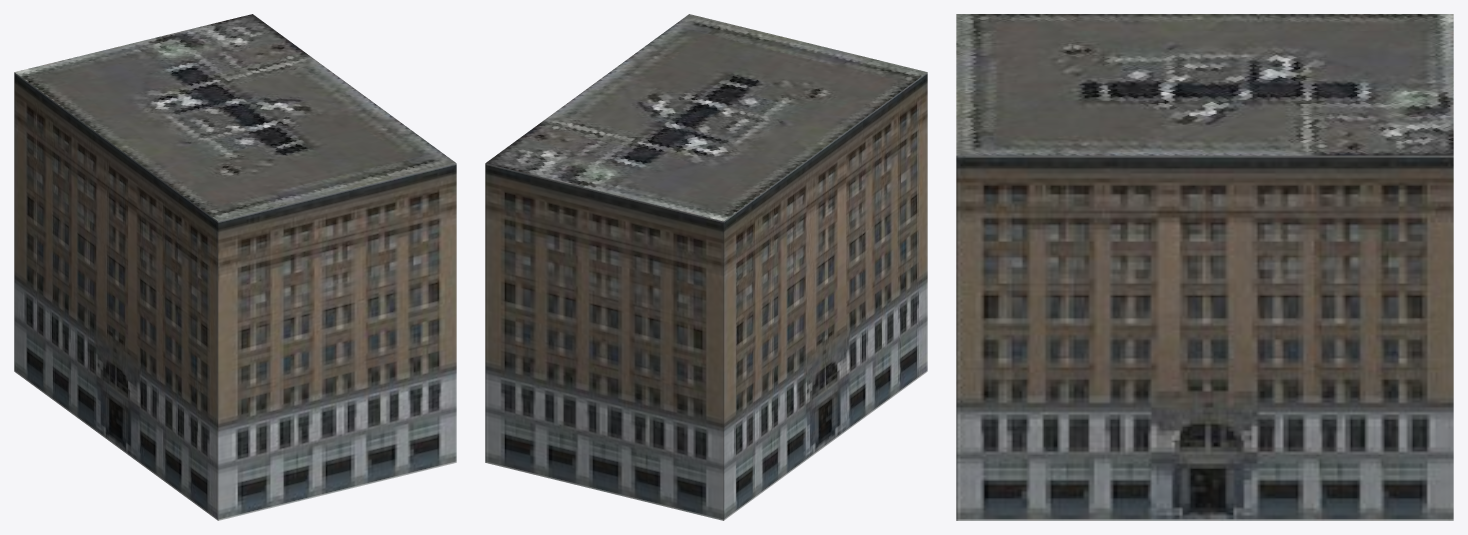
3 views of the same model, side by side, from view 1: azimuth 30°, elevation 25°; view 2: azimuth 150°, elevation 25°; view 3: azimuth 270°, elevation 25° (orthographic). The views are drawn at different scales.
Parts seen in each view (by area): view 1: b166; view 2: b166; view 3: b166.
Boxes of the visible parts, x1=… form: b166: x1=14, y1=14, x2=456, y2=520; b166: x1=485, y1=14, x2=927, y2=520; b166: x1=956, y1=14, x2=1453, y2=520.
Bounding box in the file's own units: 34.25 × 41.12 × 50.76.
Materials: 1 (1 with a texture image).
